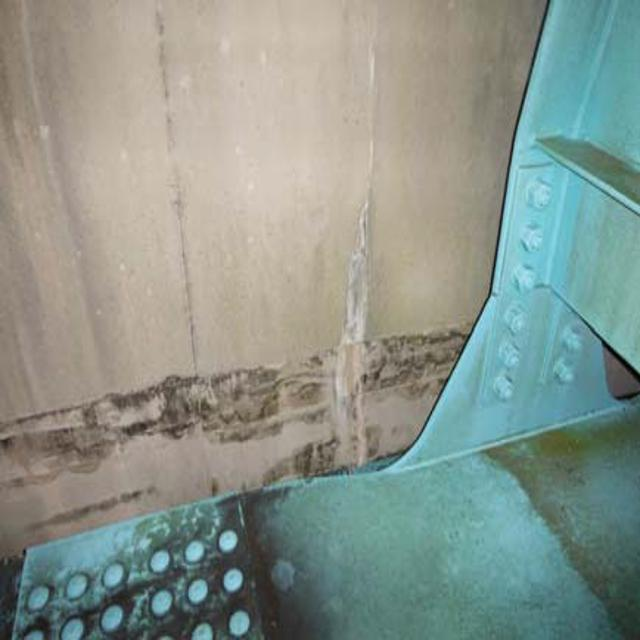freelime: (333, 227, 380, 419)
